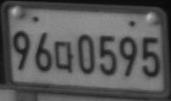0: (77, 33, 95, 73)
5: (98, 34, 117, 76), (141, 36, 160, 78)
6: (34, 31, 53, 72)
9: (118, 35, 138, 76), (12, 29, 30, 70)
다: (54, 40, 75, 74)
